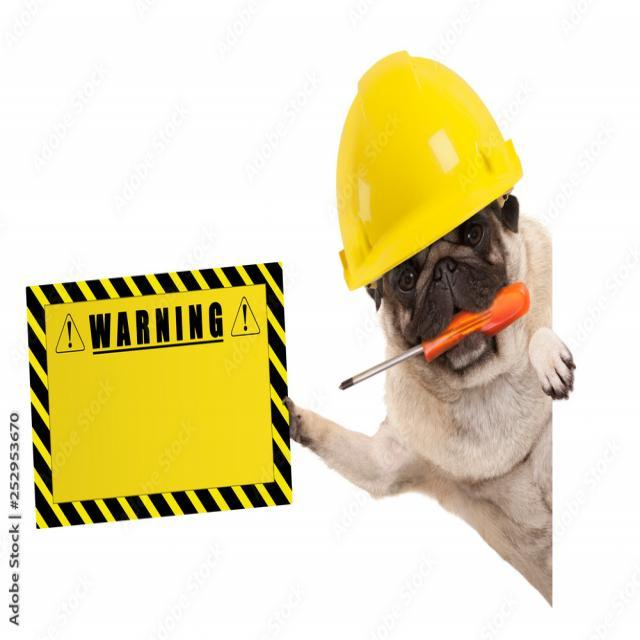screwdriver: (334, 279, 532, 396)
